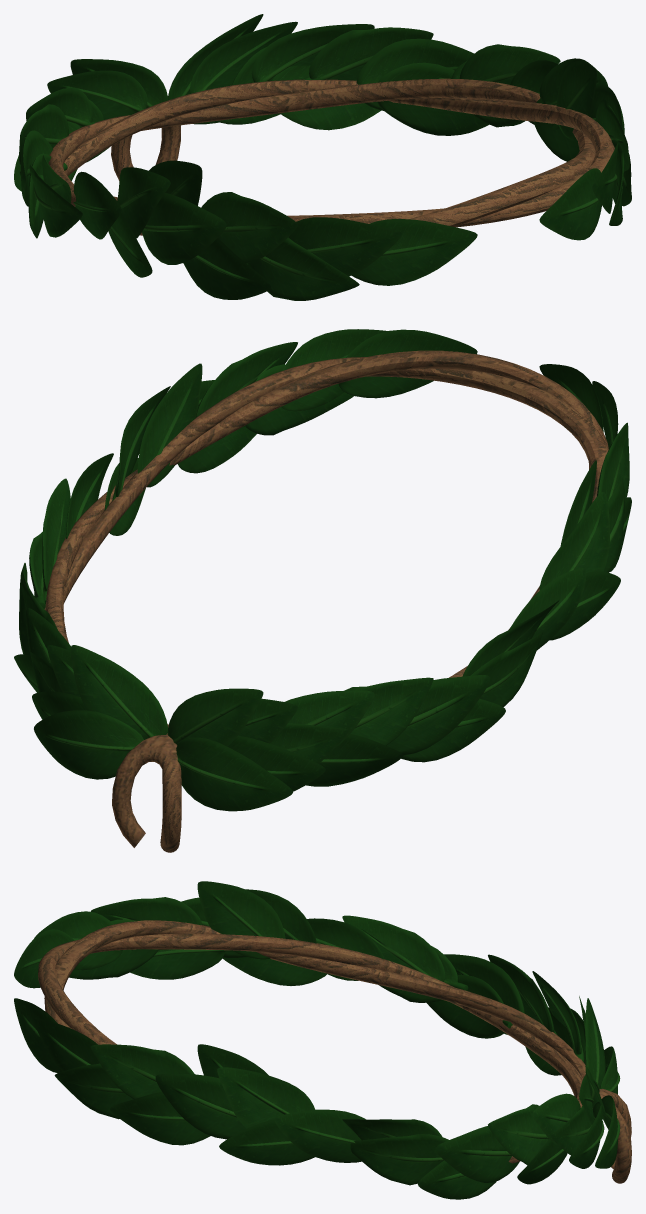
Rendered from laurel_wreath(DEFAULT).obj.
3 views of the same model, one above another, from view 1: azimuth 30°, elevation 25°; view 2: azimuth 150°, elevation 25°; view 3: azimuth 270°, elevation 25° (orthographic). The views are drawn at different scales.
Parts seen in each view (by area): view 1: leaves, crown; view 2: leaves, crown; view 3: leaves, crown.
Part boxes in pixels (x1=…): leaves: x1=14, y1=14, x2=631, y2=300; crown: x1=48, y1=78, x2=614, y2=235; leaves: x1=14, y1=329, x2=631, y2=811; crown: x1=44, y1=350, x2=608, y2=852; leaves: x1=14, y1=881, x2=620, y2=1199; crown: x1=38, y1=920, x2=631, y2=1183.
Size of the model in its own units: 7.59 by 3.75 by 9.75.
2 materials, 2 textured.
